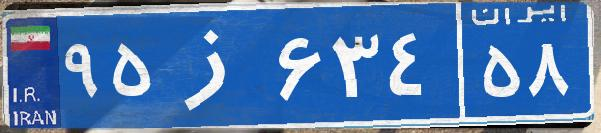3: (330, 28, 385, 110)
4: (385, 28, 445, 110)
5: (475, 38, 525, 113), (110, 28, 158, 105)
6: (273, 28, 330, 110)
8: (525, 38, 570, 115)
9: (57, 26, 110, 107)
ز: (158, 15, 273, 115)
